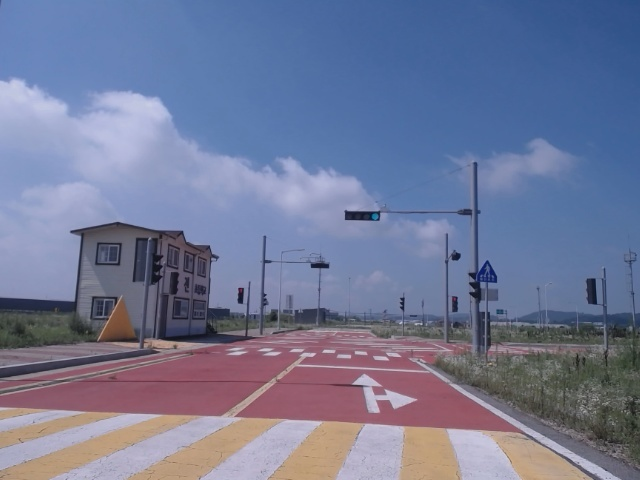straight_green_4: (344, 213, 381, 221)
